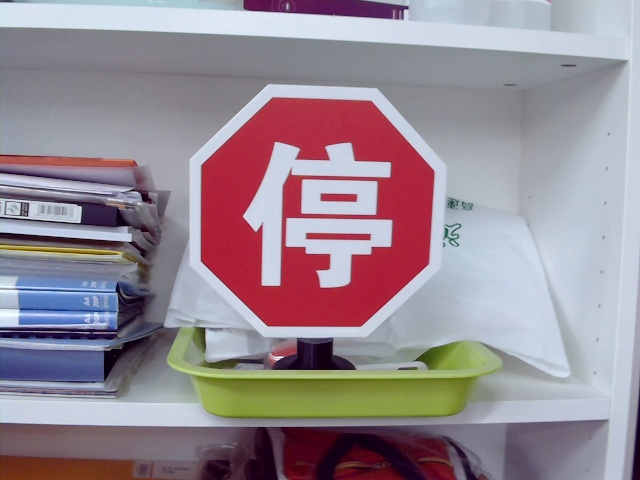stop: (239, 133, 392, 285)
